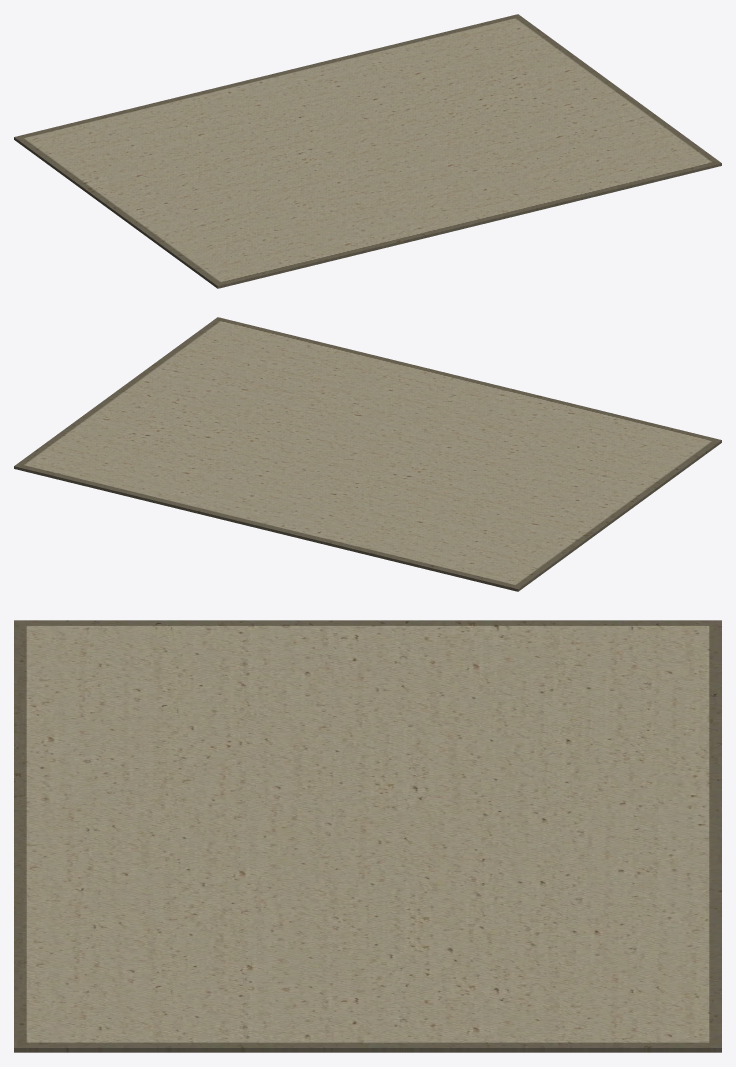
Rendered from alfombra_lana_beige_140x200.glb.
3 views of the same model, one above another, from view 1: azimuth 30°, elevation 25°; view 2: azimuth 150°, elevation 25°; view 3: azimuth 270°, elevation 25° (orthographic). The views are drawn at different scales.
Parts seen in each view (by area): view 1: alfombra_lana_beige_140x200; view 2: alfombra_lana_beige_140x200; view 3: alfombra_lana_beige_140x200.
Part boxes in pixels (<box>): alfombra_lana_beige_140x200: <box>14,14,721,288</box>; alfombra_lana_beige_140x200: <box>14,317,721,591</box>; alfombra_lana_beige_140x200: <box>14,620,721,1052</box>.
Size of the model in its own units: 2 by 0.01 by 1.4.
1 material, 1 textured.
